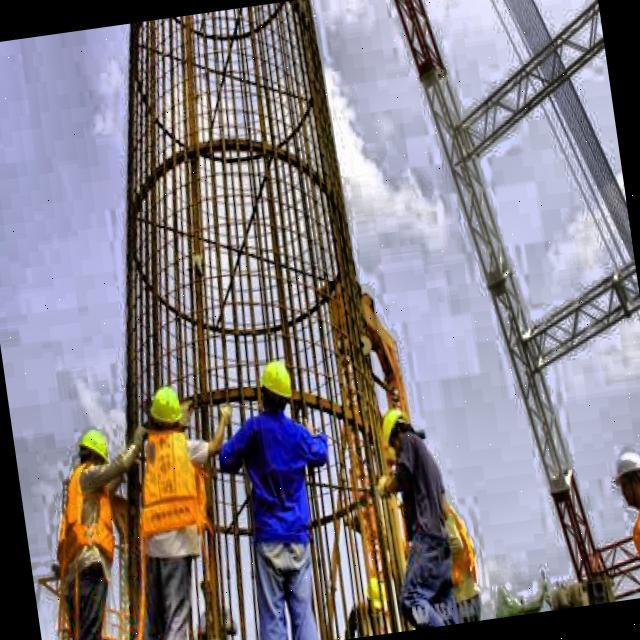helmet: (250, 352, 302, 424), (142, 379, 191, 445), (606, 442, 640, 515), (378, 401, 423, 456), (74, 428, 114, 482)
